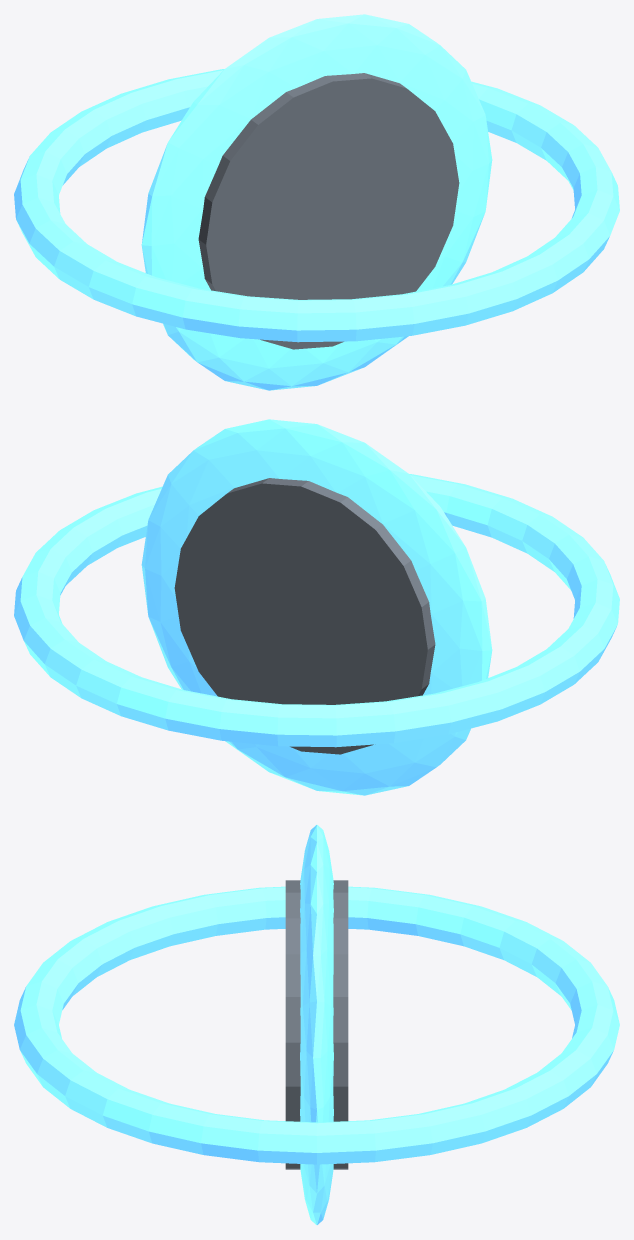
Rendered from shield_01.glb.
3 views of the same model, one above another, from view 1: azimuth 30°, elevation 25°; view 2: azimuth 150°, elevation 25°; view 3: azimuth 270°, elevation 25° (orthographic).
Parts seen in each view (by area): view 1: emitter_base, field_ring, field_core; view 2: emitter_base, field_ring, field_core; view 3: field_ring, field_core, emitter_base.
Boxes of the visible parts, x1,y1,x2,y2 form: emitter_base: (198,73,459,349); field_ring: (14,69,619,342); field_core: (141,14,492,390); emitter_base: (174,478,435,754); field_ring: (14,474,619,747); field_core: (141,419,492,795); field_ring: (14,886,619,1164); field_core: (300,825,333,1224); emitter_base: (285,880,348,1169).
Bounding box in the file's own units: 2.7 × 1.8 × 2.7.
